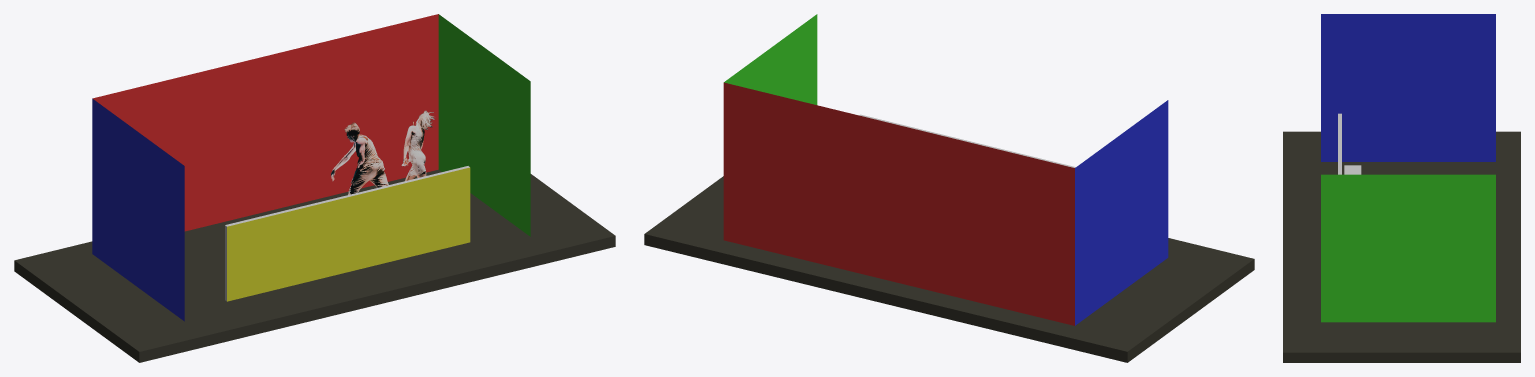
File: sunline v8.dae
3 renders of one model, left to right at view 1: azimuth 30°, elevation 25°; view 2: azimuth 150°, elevation 25°; view 3: azimuth 270°, elevation 25°, orthographic. The views are drawn at different scales.
Visible parts, largest first — view 1: front, floor, desktop, left, right, cutout1, cutout2, deskbase; view 2: front, floor, left, right; view 3: right, left, floor, deskbase.
Part boxes in pixels (bbox=[...]): front: bbox=[92, 14, 438, 231]; floor: bbox=[14, 169, 615, 362]; desktop: bbox=[227, 167, 470, 301]; left: bbox=[92, 98, 184, 321]; right: bbox=[438, 14, 530, 236]; cutout1: bbox=[331, 122, 388, 194]; cutout2: bbox=[401, 110, 434, 180]; deskbase: bbox=[225, 166, 469, 301]; front: bbox=[723, 82, 1074, 325]; floor: bbox=[644, 176, 1254, 362]; left: bbox=[1075, 100, 1168, 325]; right: bbox=[724, 14, 817, 104]; right: bbox=[1321, 174, 1495, 322]; left: bbox=[1321, 14, 1495, 161]; floor: bbox=[1283, 131, 1520, 362]; deskbase: bbox=[1338, 113, 1341, 174].
Bounding box in the file's own units: 19.15 × 6.4 × 8.72.
